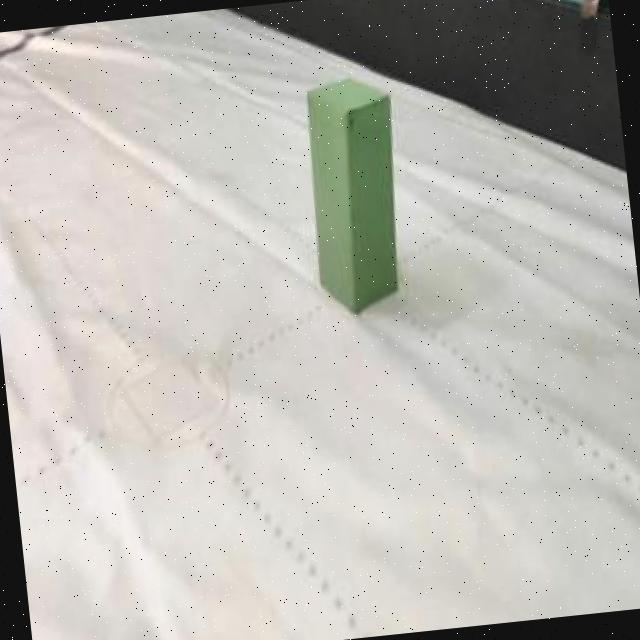greenbox: (298, 70, 411, 316)
